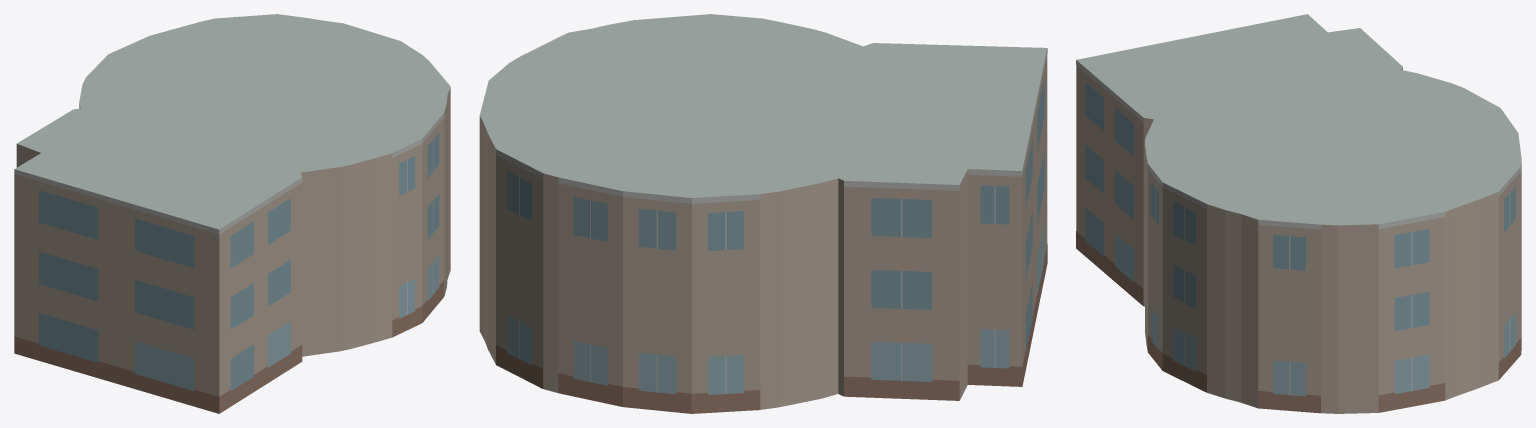
File: survey-upis-32582061.glb
3 renders of one model, left to right at view 1: azimuth 30°, elevation 25°; view 2: azimuth 150°, elevation 25°; view 3: azimuth 270°, elevation 25°, orthographic. The views are drawn at different scales.
Visible parts, largest first — view 1: survey-upis-32582061.tmp; view 2: survey-upis-32582061.tmp; view 3: survey-upis-32582061.tmp.
Boxes of the visible parts, bbox=[...] form: survey-upis-32582061.tmp: bbox=[14, 14, 450, 413]; survey-upis-32582061.tmp: bbox=[479, 14, 1047, 413]; survey-upis-32582061.tmp: bbox=[1076, 14, 1521, 413].
Bounding box in the file's own units: 21.99 × 9.15 × 19.6.
